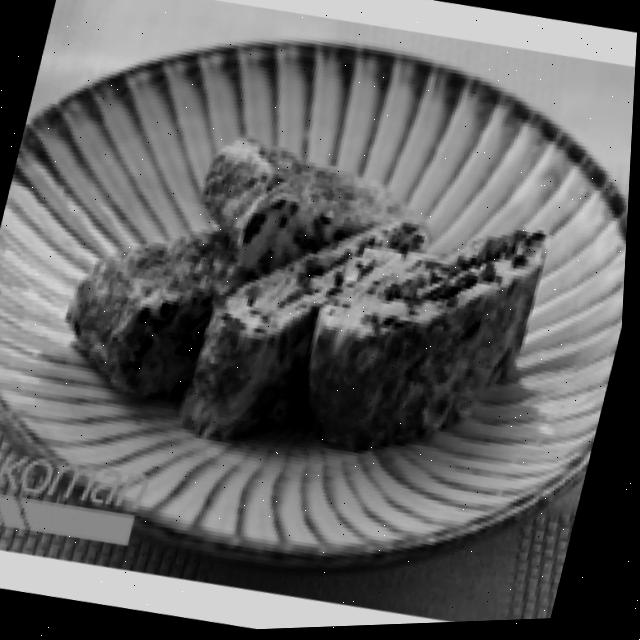鸡蛋料理: (29, 89, 575, 496)
